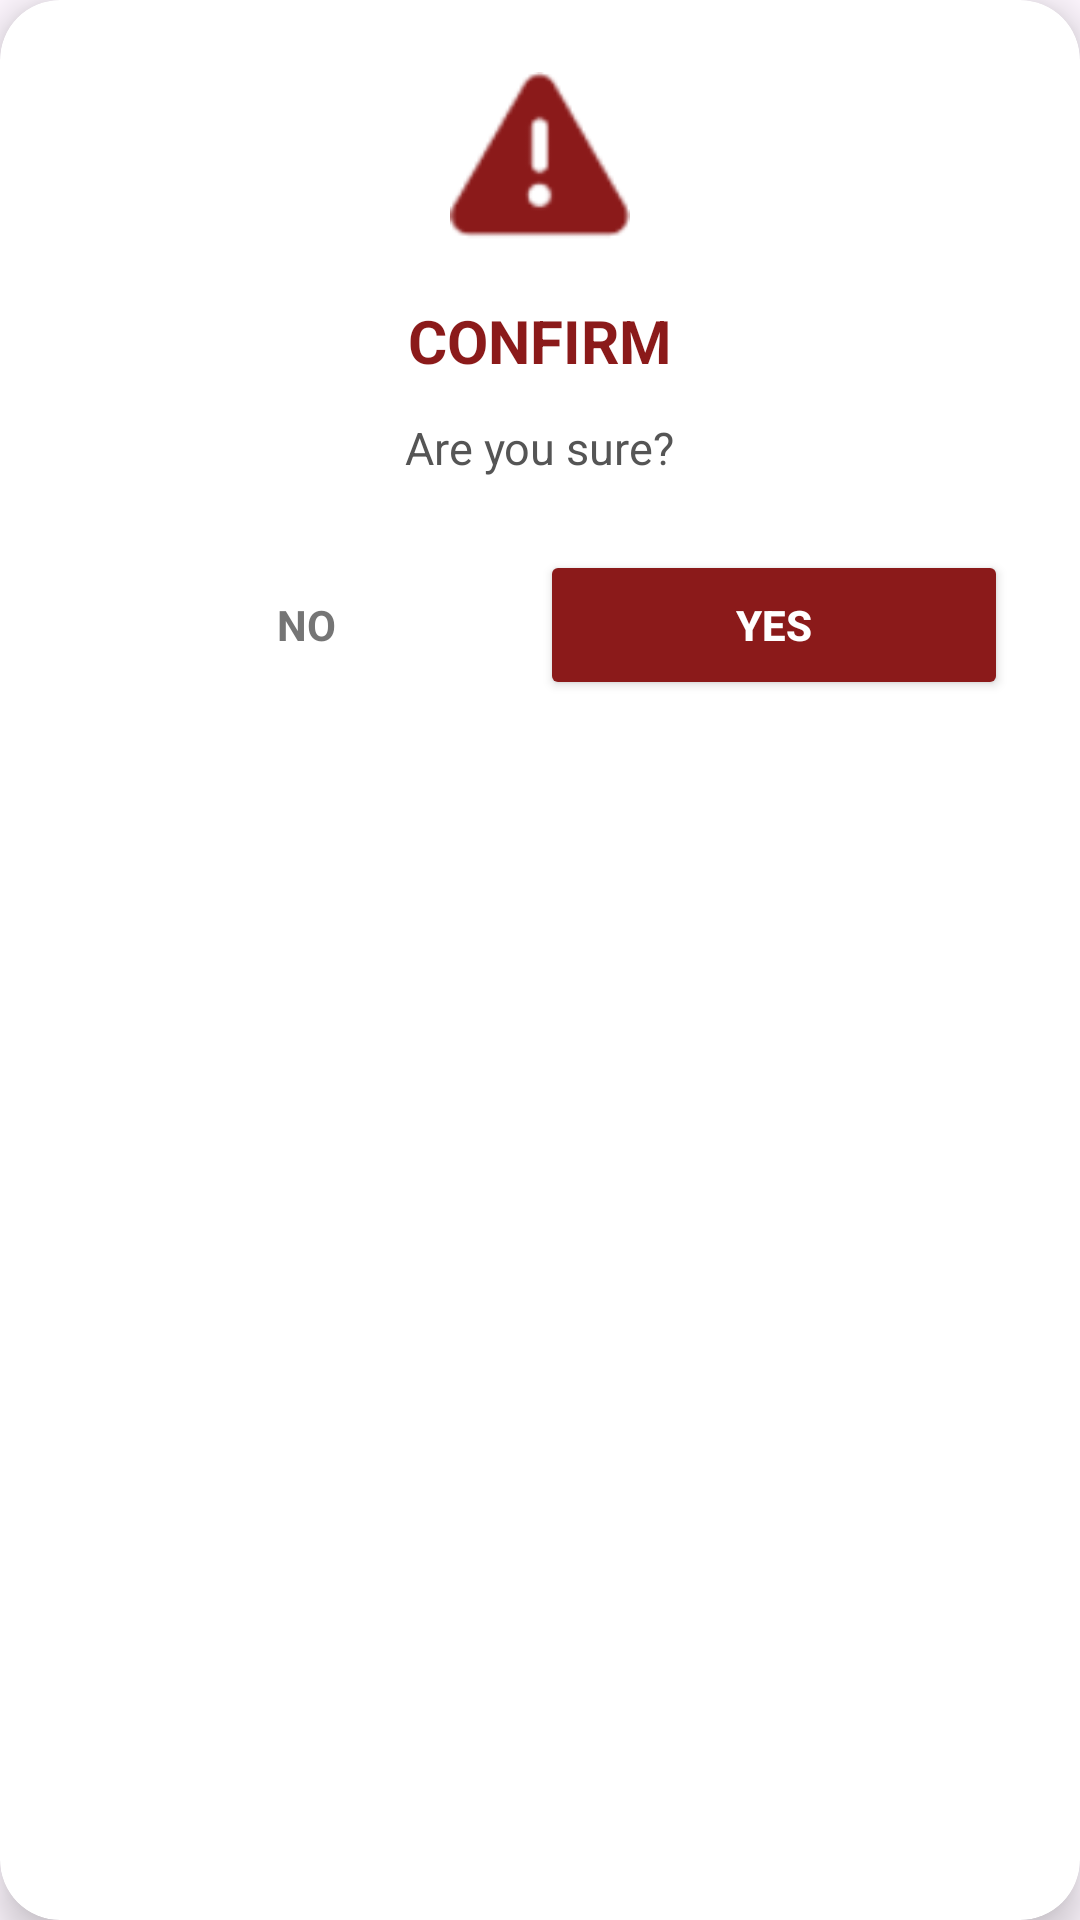

Icon click points for this 1080*1920 phone screenshot, format point (x, y):
alert: point (540, 154)
